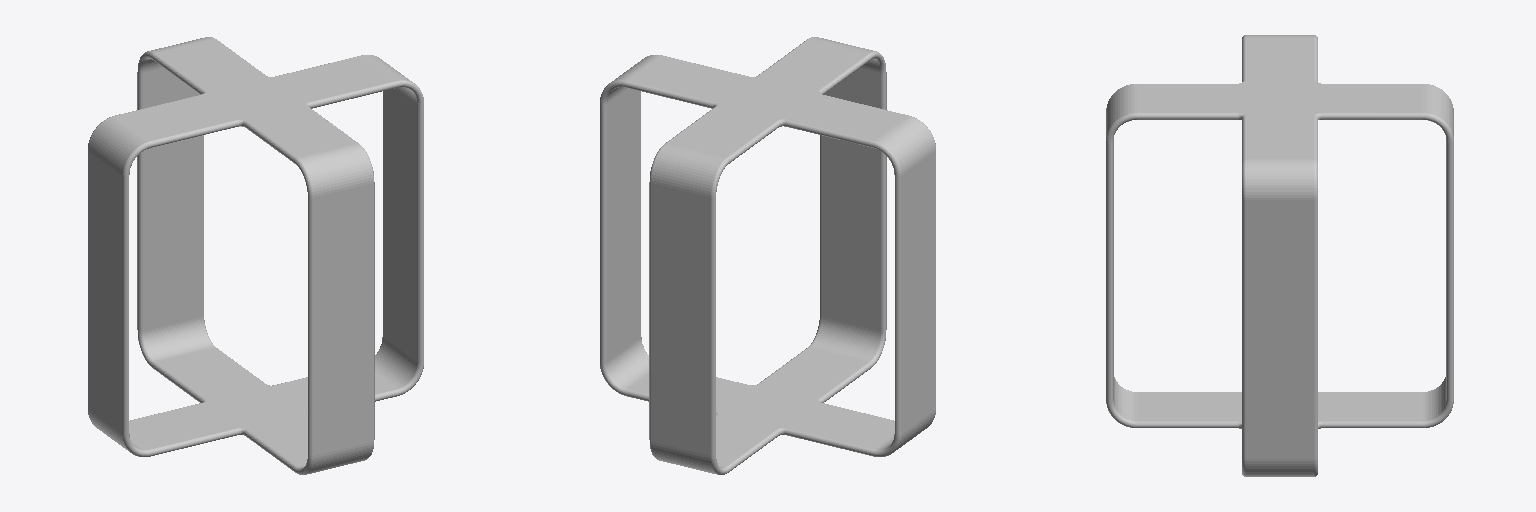
Rendered from string.obj.
3 views of the same model, side by side, from view 1: azimuth 30°, elevation 25°; view 2: azimuth 150°, elevation 25°; view 3: azimuth 270°, elevation 25° (orthographic).
Parts seen in each view (by area): view 1: Cube.002; view 2: Cube.002; view 3: Cube.002.
Boxes of the visible parts, box(x1,y1,x2,y2) form: Cube.002: box(88, 37, 423, 474); Cube.002: box(600, 37, 935, 474); Cube.002: box(1106, 35, 1453, 476).
Size of the model in its own units: 2.09 by 2.09 by 2.09.